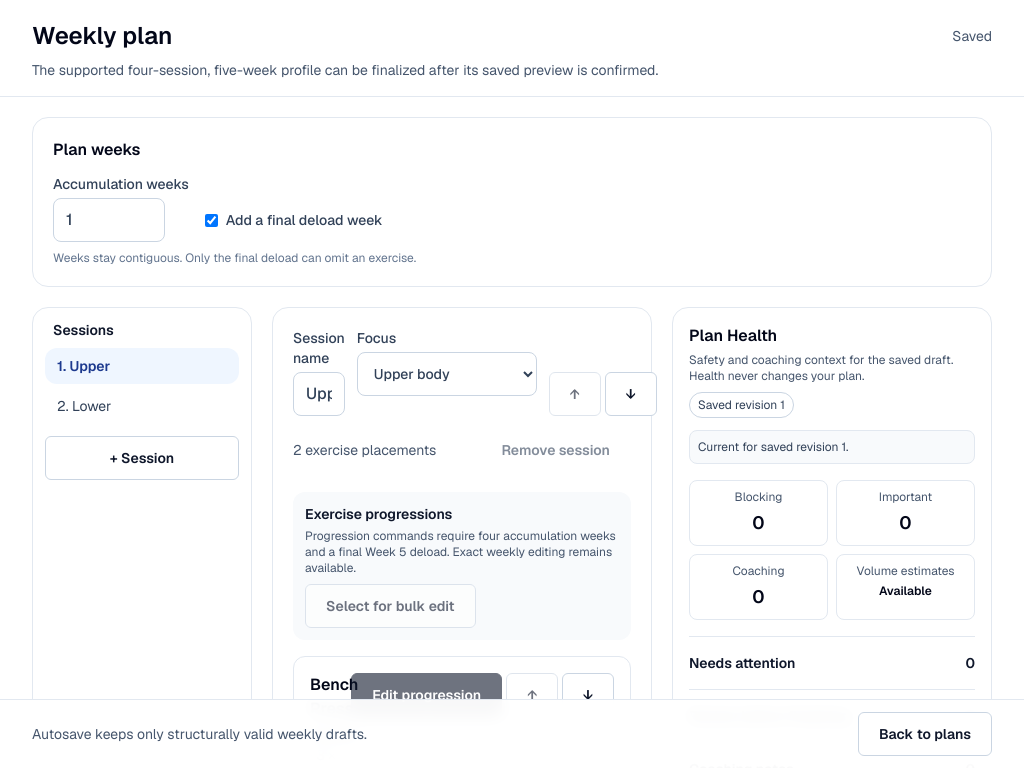
it: WeeklyHypertrophyPlanEditor › shows saved-revision Health, marks it stale for local edits, and refreshes on the matching save
The width and height of the screenshot is (1024, 768).
Check: the text "Current for saved revision 1." is shown, box x1=689 y1=430 x2=975 y2=464
Check: the text "Saved revision 1" is shown, box x1=689 y1=392 x2=794 y2=418
Replace the text in the field showing "Weekly plan" with "Weekly plan edited": (320, 36) x1=32 y1=20 x2=608 y2=52
Wait 800 ms
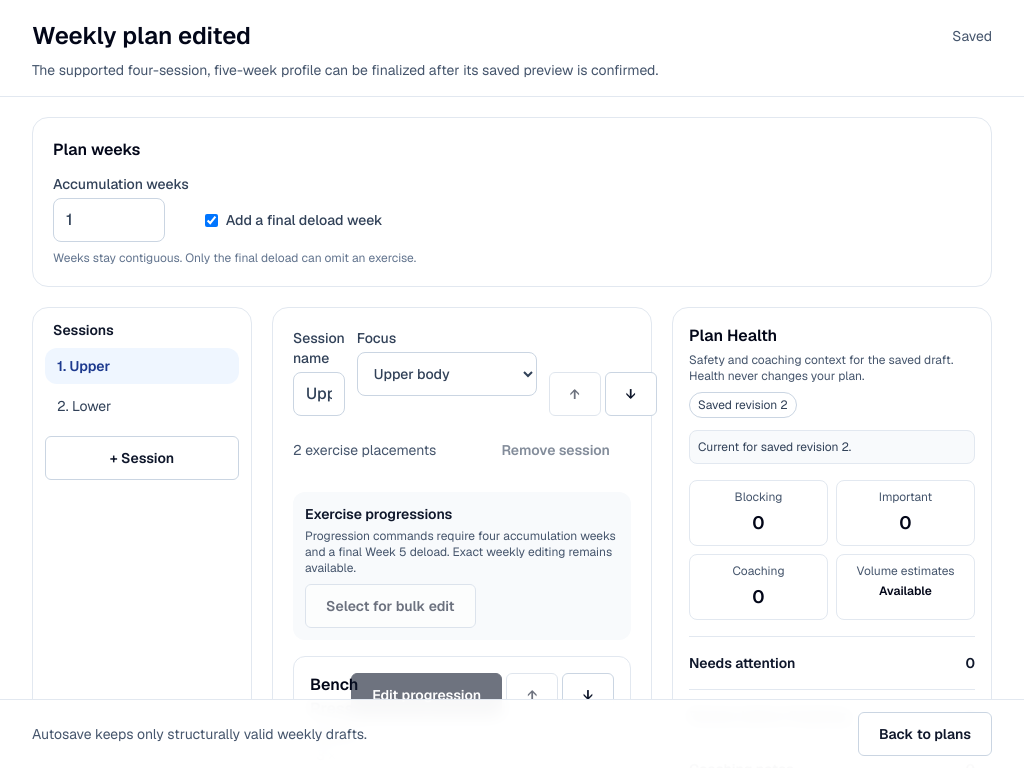
Check: the text "Current for saved revision 2." is shown, box x1=689 y1=430 x2=975 y2=464
Check: the text "Saved revision 2" is shown, box x1=689 y1=392 x2=797 y2=418
